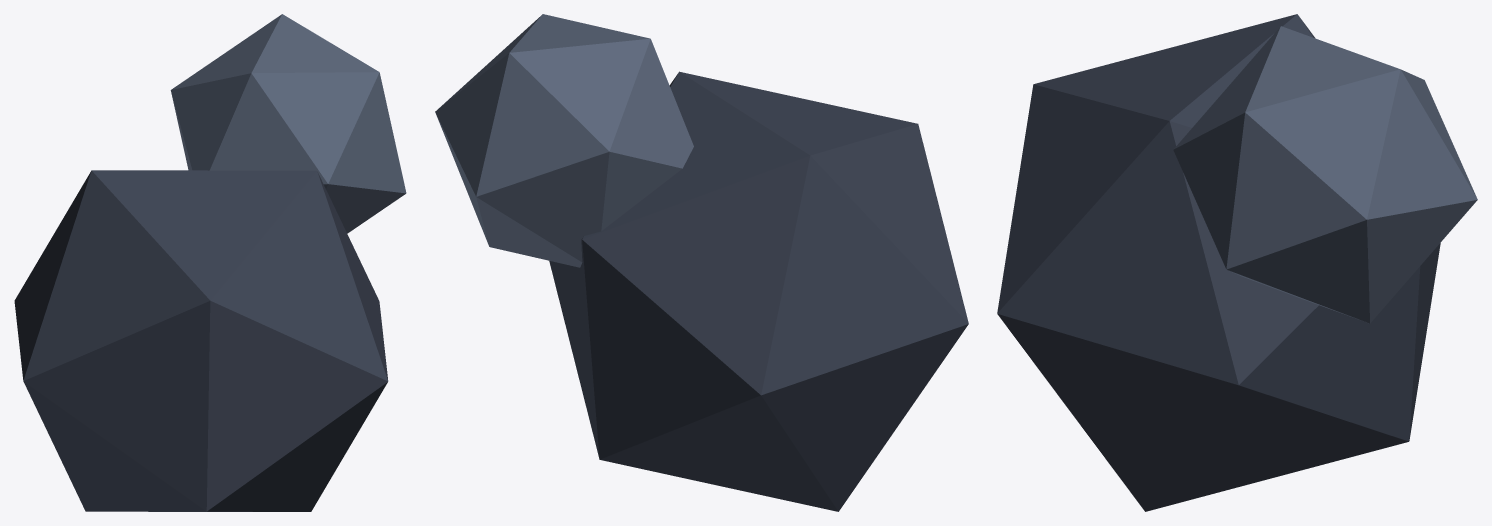
The model's file is rock_boulder.glb.
The picture shows the model from 3 angles, left to right: view 1: azimuth 30°, elevation 25°; view 2: azimuth 150°, elevation 25°; view 3: azimuth 270°, elevation 25°; orthographic projection. The views are drawn at different scales.
Parts seen in each view (by area): view 1: rock_boulder; view 2: rock_boulder; view 3: rock_boulder.
Boxes of the visible parts, x1,y1,x2,y2 form: rock_boulder: (14,14,406,511); rock_boulder: (435,14,968,511); rock_boulder: (997,14,1477,511).
Size of the model in its own units: 22.7 by 20.67 by 18.46.
